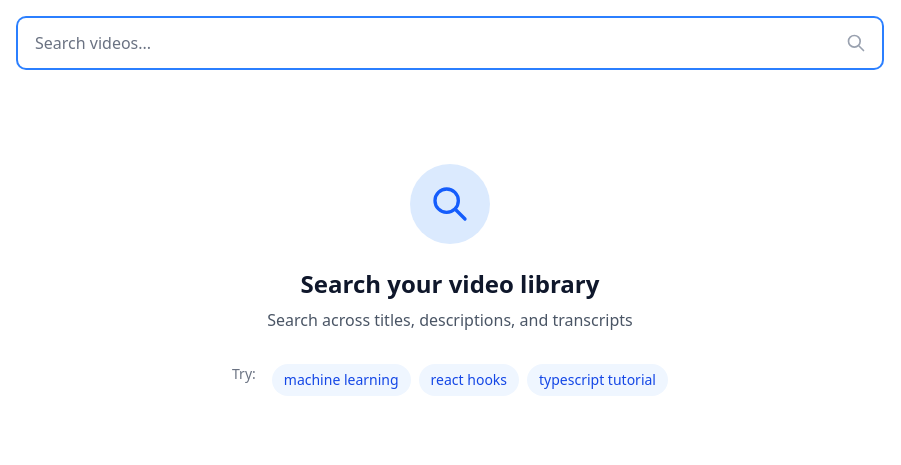
Scenario: SearchPage Integration Tests › Loading State (FR-014) › should show skeleton while loading search results
This screenshot has width=901, height=465.
In the search field: (450, 43) [18, 18, 882, 68], type "machine learning"
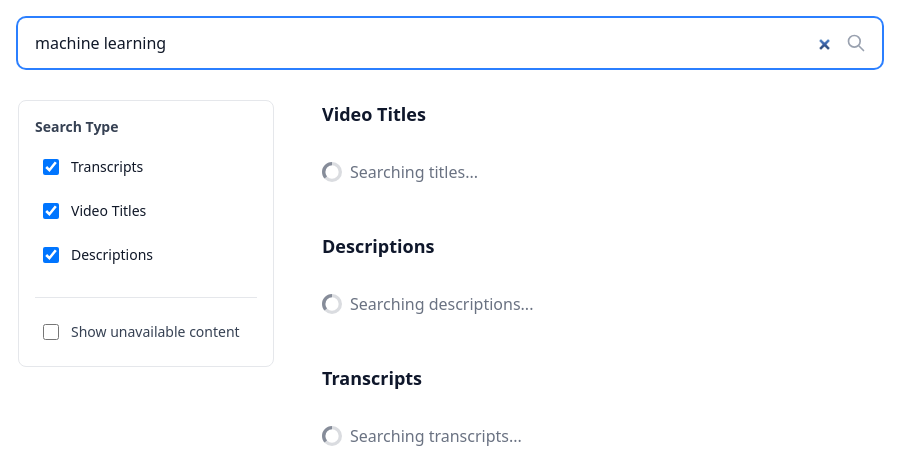
Result: the text "Searching transcripts..." is shown at [350, 424, 522, 448]
Result: the message "Searching titles..." is shown at [322, 161, 478, 183]
